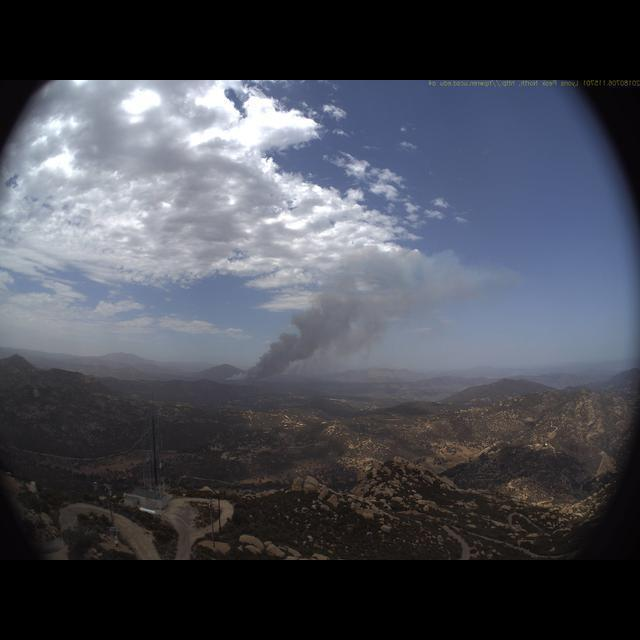Smoke: (228, 243, 481, 396)
